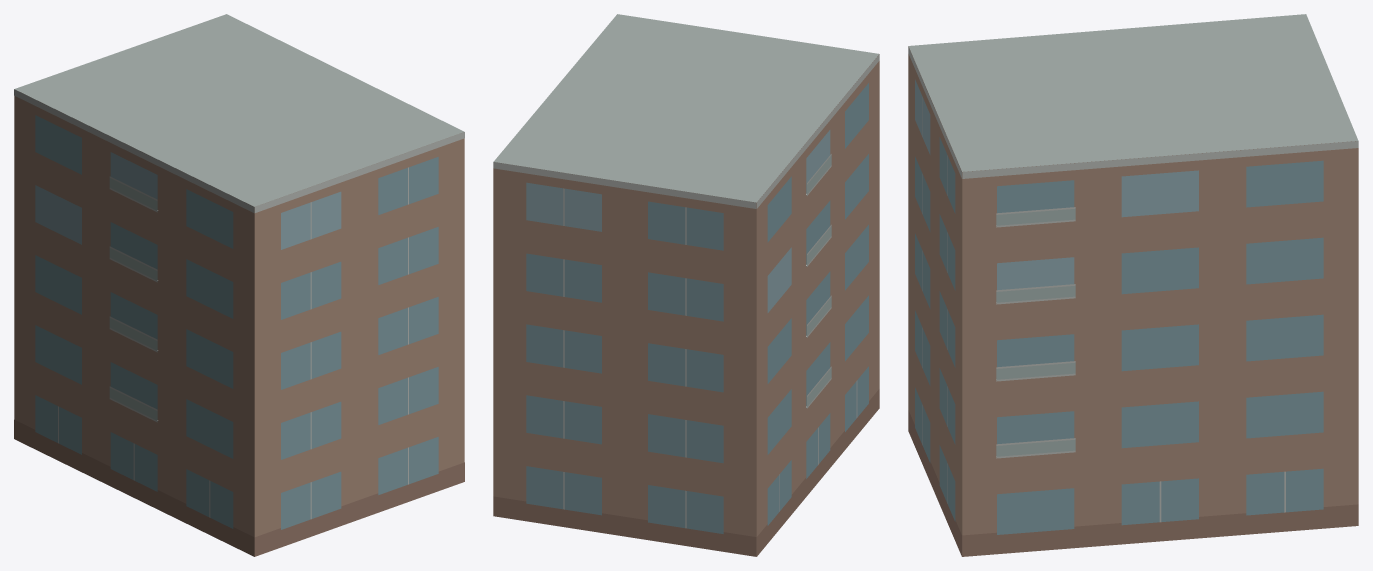
Rendered from survey-upis-32843791.glb.
3 views of the same model, side by side, from view 1: azimuth 30°, elevation 25°; view 2: azimuth 150°, elevation 25°; view 3: azimuth 270°, elevation 25° (orthographic). The views are drawn at different scales.
Visible parts, largest first — view 1: survey-upis-32843791.tmp; view 2: survey-upis-32843791.tmp; view 3: survey-upis-32843791.tmp.
Part boxes in pixels (x1,y1,x2,y2): survey-upis-32843791.tmp: [14, 14, 464, 556]; survey-upis-32843791.tmp: [493, 14, 879, 556]; survey-upis-32843791.tmp: [908, 14, 1358, 556].
Bounding box in the file's own units: 11.57 × 13.15 × 13.95.
